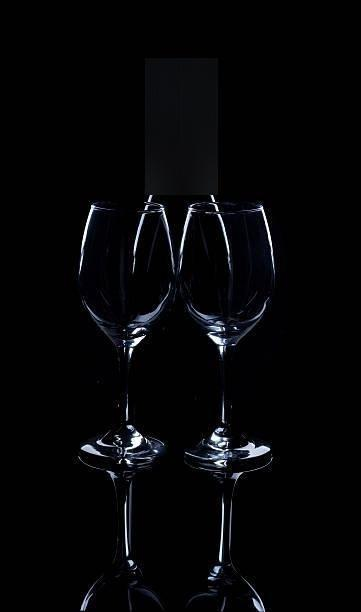glass-wine: (176, 199, 278, 474), (74, 198, 176, 470)
